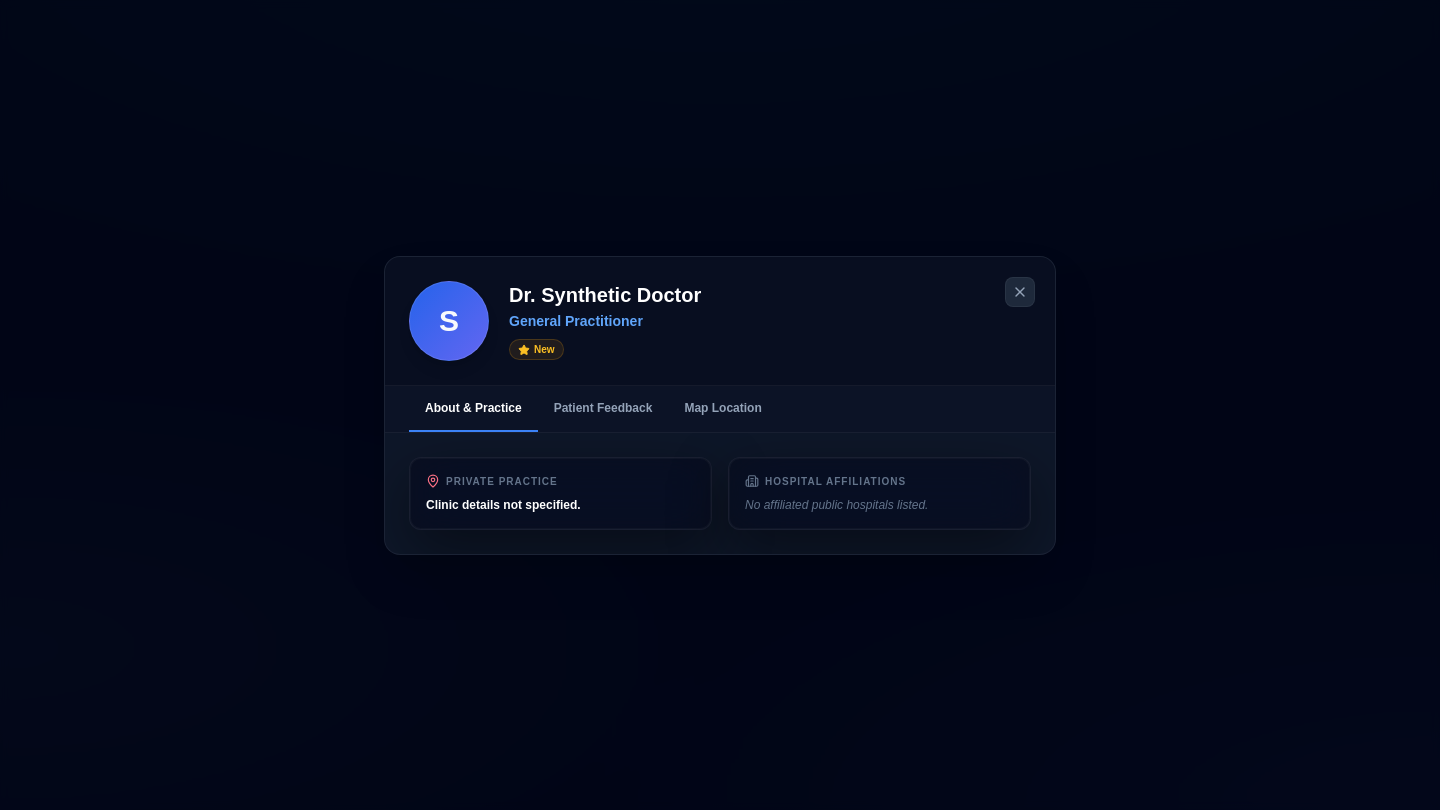
review service failure is visible and cannot become an empty-review success
The image size is (1440, 810).
What coordinates should you click on to do the following:
click the button "Patient Feedback"
I would click on:
 (603, 408)
Its box is [538,386,668,432].
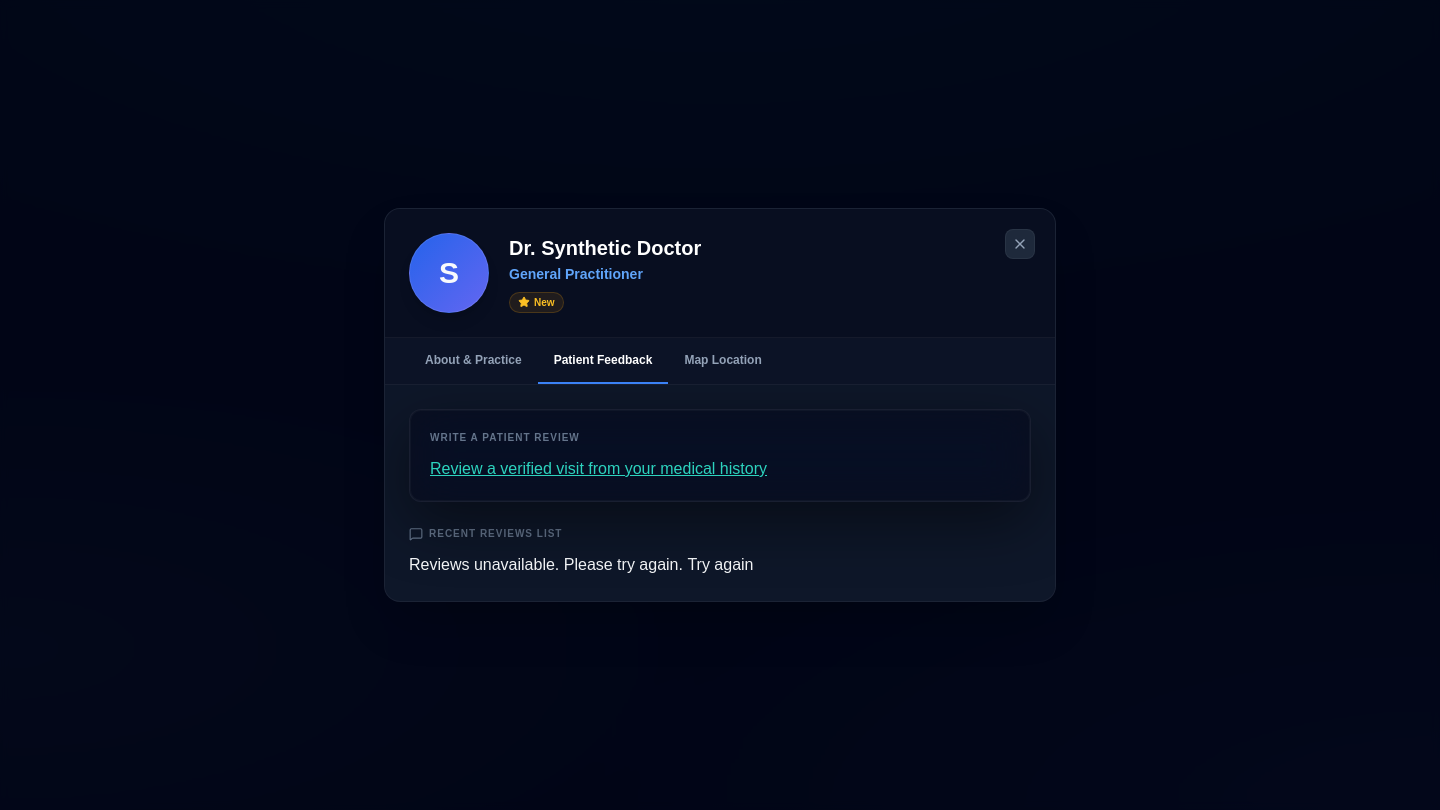
expect the message "Reviews unavailable. Please try again. Try again" is shown: met, box [409,553,754,577]
